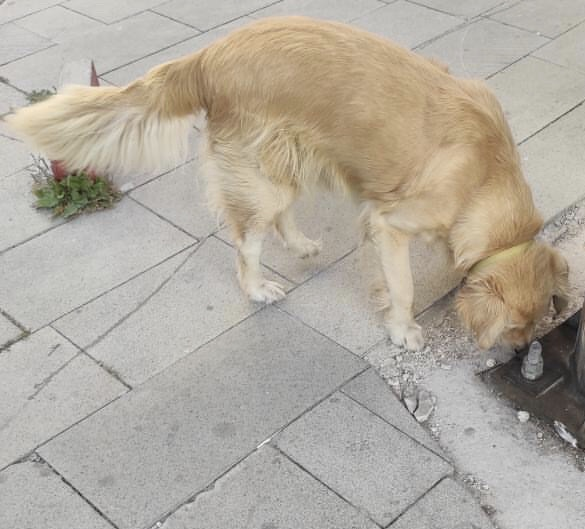dog: (19, 18, 580, 355)
